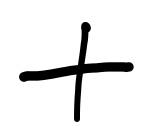plus: (19, 22, 134, 122)
